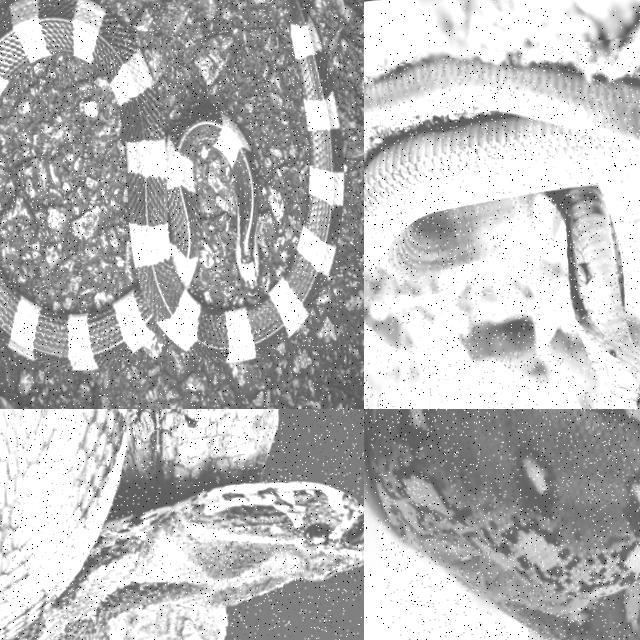Bungarus fasciatus: (0, 0, 343, 369)
Daboia siamensis: (0, 409, 363, 639)
Malayopython reticulatus: (370, 409, 639, 639)
Naja siamensis: (364, 58, 639, 408)
